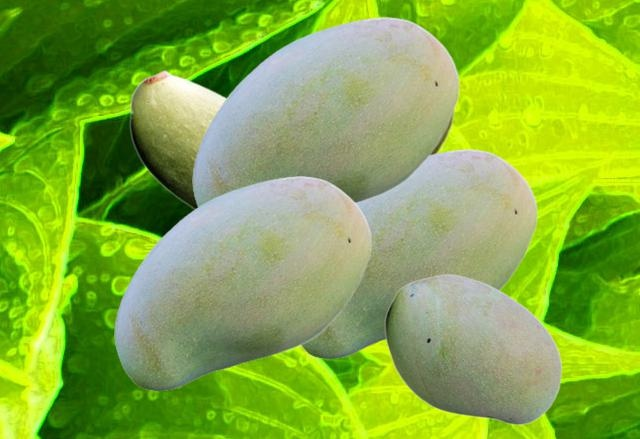green_mango: (114, 176, 371, 389), (192, 17, 459, 207), (300, 149, 537, 357), (384, 273, 561, 424), (129, 69, 225, 209)
